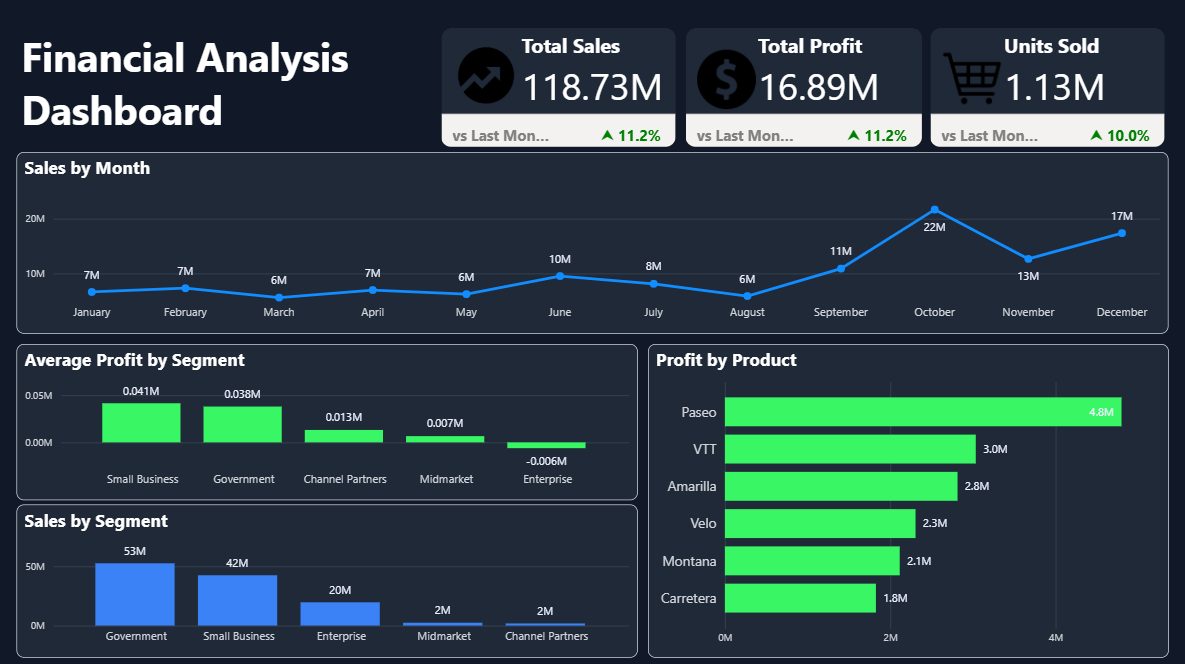

The page's visual inventory and layout, read from the dashboard file:
{"tool":"powerbi","page":{"name":"Page 1","canvas":[1280,720],"ordinal":0},"visuals":[{"type":"columnChart","title":"Sales by Segment","fields":{"Y":["Sum(financials.Sales)"],"Category":["financials.Segment"]},"box":[21,543.5,667.7,164.5],"z":0},{"type":"lineChart","title":"Sales by Month","fields":{"Category":["financials.Date.Variation.Date Hierarchy.Month"],"Y":["Sum(financials.Sales)"]},"box":[21.7,165,1238.3,195],"z":1000},{"type":"clusteredBarChart","title":"Profit by Product","fields":{"Y":["Sum(financials.Profit)"],"Category":["financials.Product"]},"box":[700,371,559.7,337.1],"z":2000},{"type":"clusteredColumnChart","title":"Average Profit by Segment","fields":{"Category":["financials.Segment"],"Y":["Avg(financials.Profit)"]},"box":[21,371,667.7,167.7],"z":3000},{"type":"cardVisual","title":"Sales","fields":{"Data":["Sum(financials.Profit)"]},"box":[734.9,25.4,264,138.4],"z":4000},{"type":"cardVisual","title":"Sales","fields":{"Data":["Sum(financials.Units Sold)"]},"box":[998.9,25.4,262.5,138.4],"z":5000},{"type":"textbox","box":[21.7,26.7,448.3,128.3],"z":6000},{"type":"cardVisual","title":"Sales","fields":{"Data":["Sum(financials.Sales)"]},"box":[472.4,25.4,262.5,138.4],"z":7000}]}

Visuals, with their boxes in screenshot pixels (x1, y1, x2, y2), scaled from the page's 1280x720 canvas onto the 1185x664 screenshot:
"Sales by Segment" columnChart: box=[19, 501, 638, 653]
"Sales by Month" lineChart: box=[20, 152, 1166, 332]
"Profit by Product" clusteredBarChart: box=[648, 342, 1166, 653]
"Average Profit by Segment" clusteredColumnChart: box=[19, 342, 638, 497]
"Sales" cardVisual: box=[680, 23, 925, 151]
"Sales" cardVisual: box=[925, 23, 1168, 151]
textbox: box=[20, 25, 435, 143]
"Sales" cardVisual: box=[437, 23, 680, 151]
